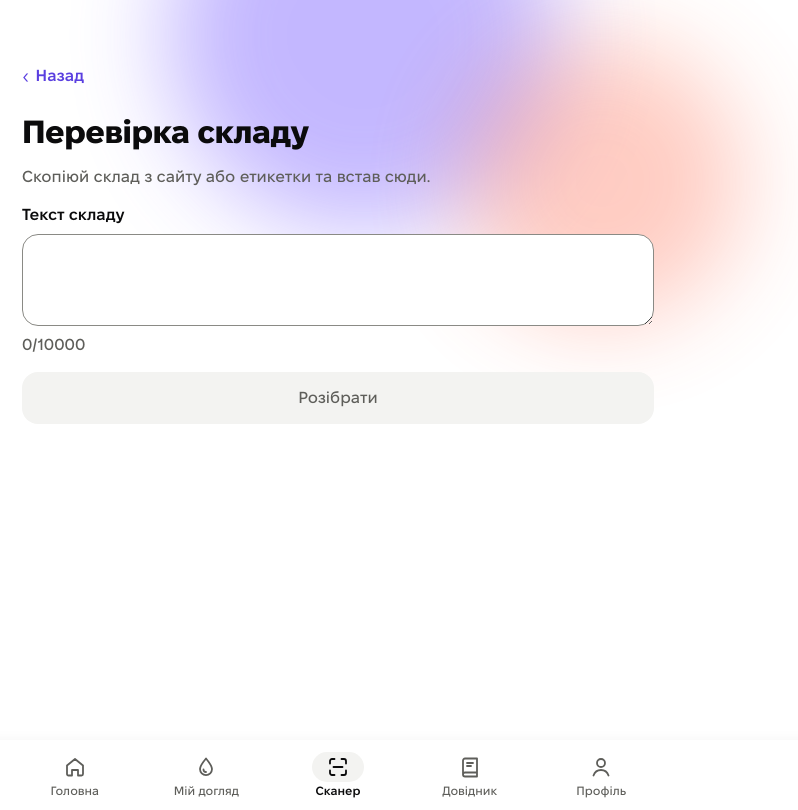
Test: the scanner: paste, review, check › F3 under T2: not enough information, and the full composition can be opened
The width and height of the screenshot is (798, 810).
Type "Aqua, Glycerin" into the text box labelled "Текст складу".
click(338, 280); type("Aqua, Glycerin")  # box [22,234,654,326]
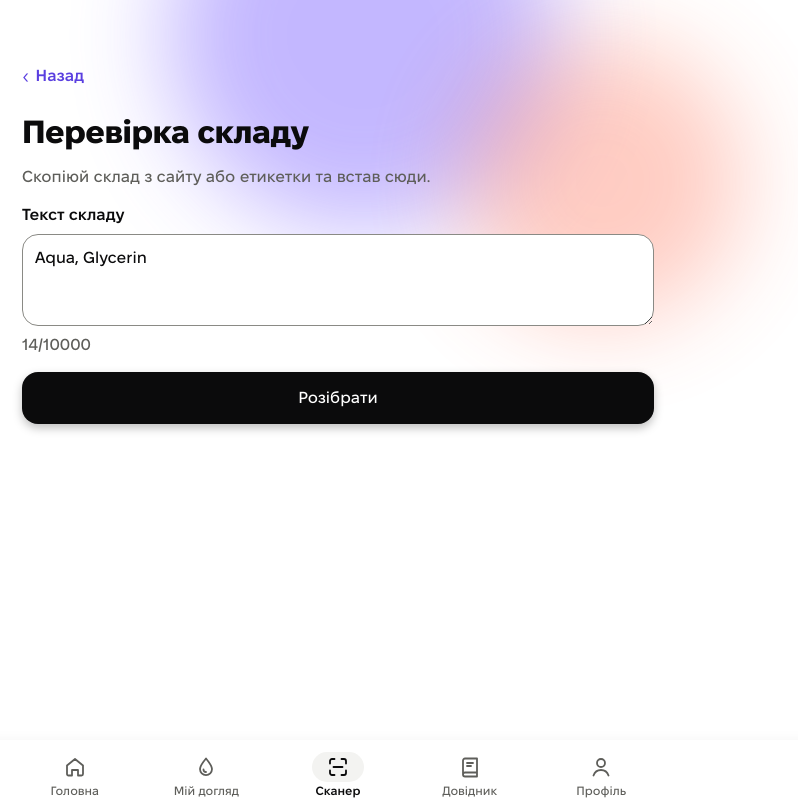
Click the button "Розібрати".
click(338, 398)  # box [22,372,654,424]
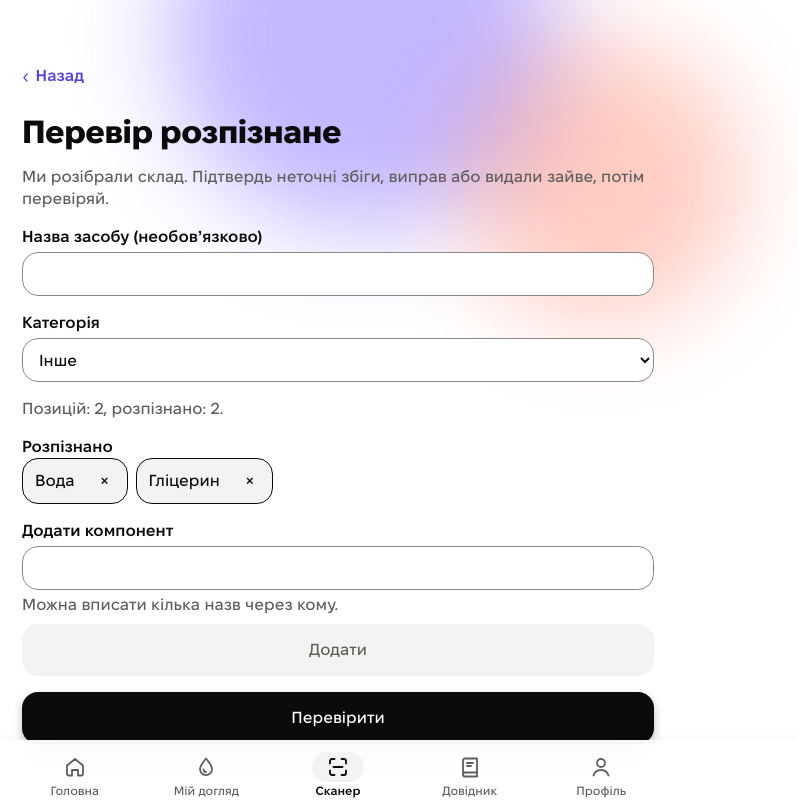
Click the button "Перевірити".
click(338, 718)  # box [22,692,654,744]
(page scrolled)
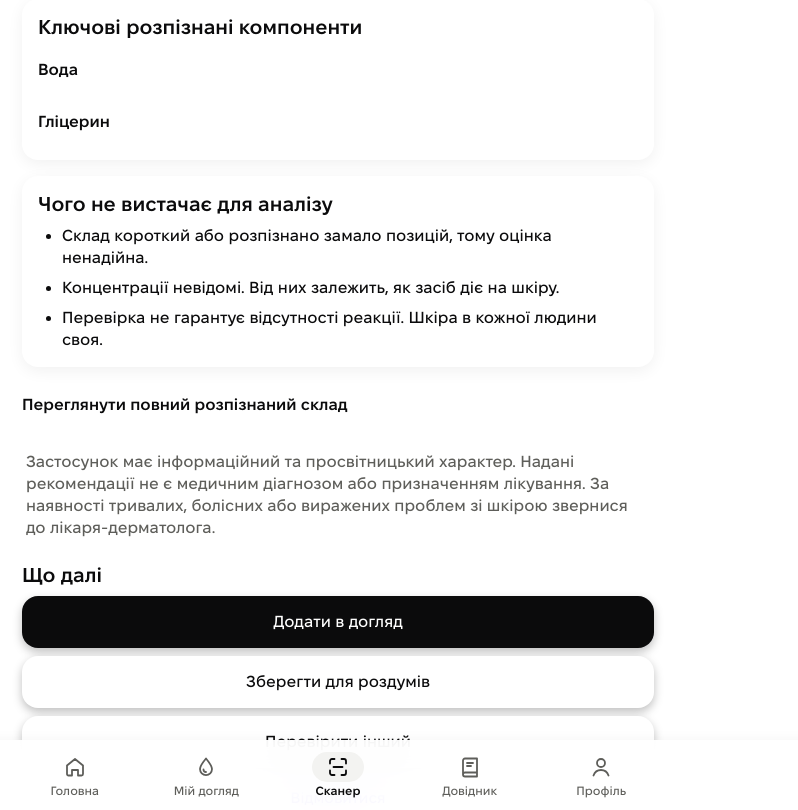
Now the list item "Склад короткий або розпізнано замало позицій, тому оцінка ненадійна." is shown, box [62,225,638,269]
Now the heading "Переглянути повний розпізнаний склад" is shown, box [22,396,348,413]
